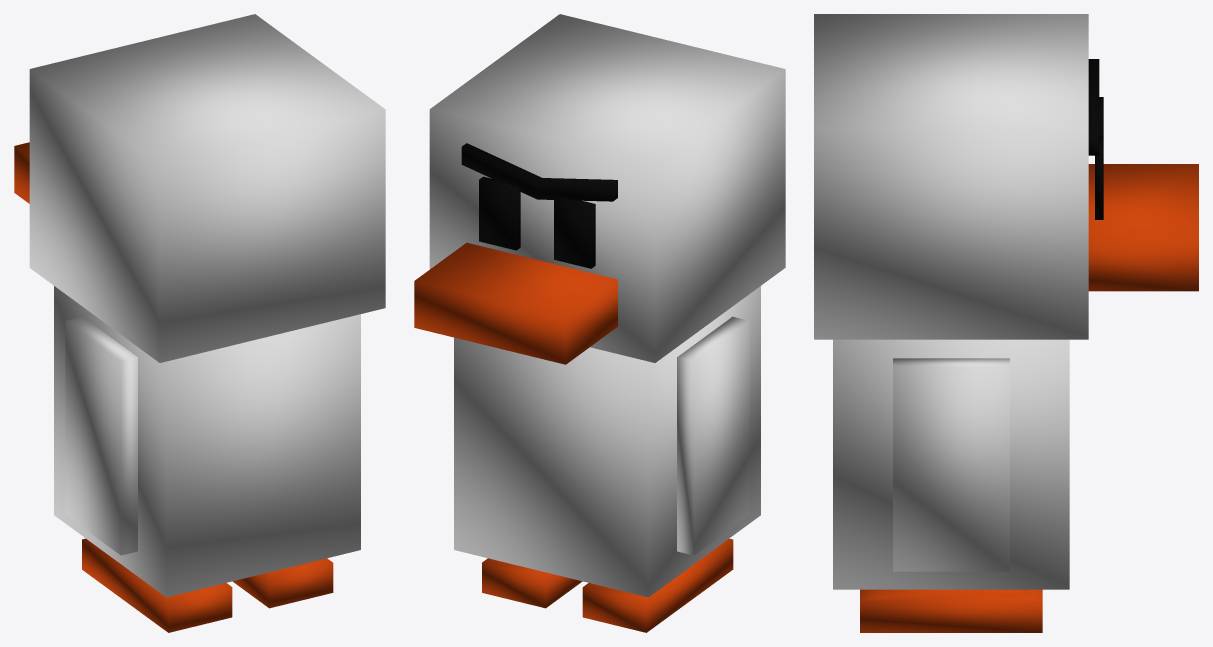
File: duck.obj
3 views of the same model, side by side, from view 1: azimuth 30°, elevation 25°; view 2: azimuth 150°, elevation 25°; view 3: azimuth 270°, elevation 25° (orthographic). The views are drawn at different scales.
Parts seen in each view (by area): view 1: Cube_Cube_white, Cube_Cube_Material; view 2: Cube_Cube_white, Cube_Cube_Material, Cube_Cube_black; view 3: Cube_Cube_white, Cube_Cube_Material, Cube_Cube_black.
Boxes of the visible parts, x1,y1,x2,y2 form: Cube_Cube_white: (29,14,385,597); Cube_Cube_Material: (14,142,333,632); Cube_Cube_white: (429,14,785,597); Cube_Cube_Material: (414,242,733,632); Cube_Cube_black: (461,143,617,268); Cube_Cube_white: (814,14,1088,589); Cube_Cube_Material: (860,164,1198,632); Cube_Cube_black: (1088,59,1103,219).
Bounding box in the file's own units: 2.35 × 4.83 × 3.25.
